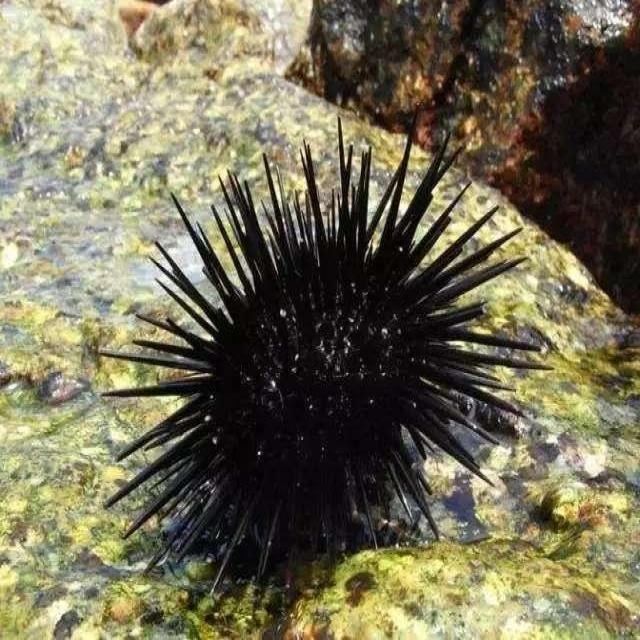Urchin: (97, 117, 555, 613)
